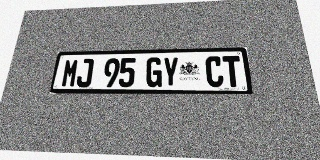5: (118, 58, 136, 87)
9: (102, 58, 120, 87)
C: (205, 56, 224, 87)
G: (145, 57, 162, 87)
J: (76, 59, 94, 87)
M: (61, 59, 79, 87)
T: (222, 56, 242, 87)
Y: (162, 57, 179, 87)
